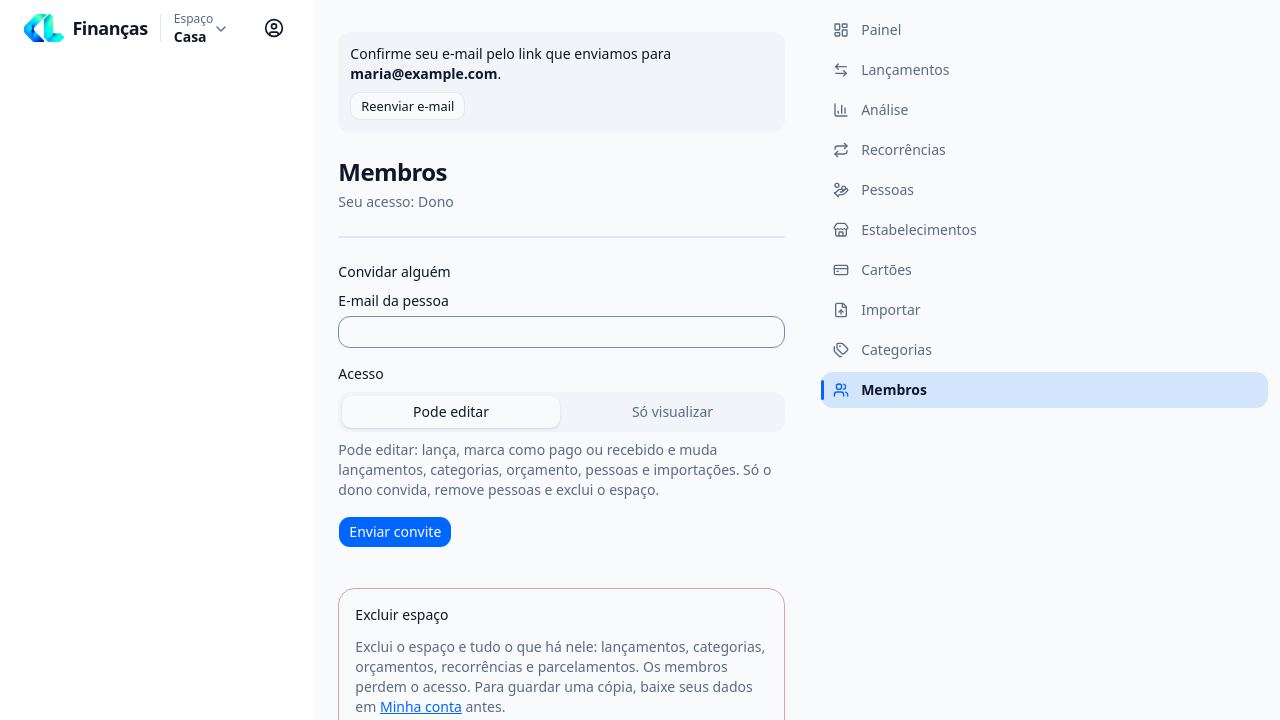
it: WorkspaceSwitcher › creates a shared workspace and opens it
This screenshot has width=1280, height=720.
Click the button named "Trocar de espaço: Espaço Casa": (202, 29) [165, 7, 238, 51]
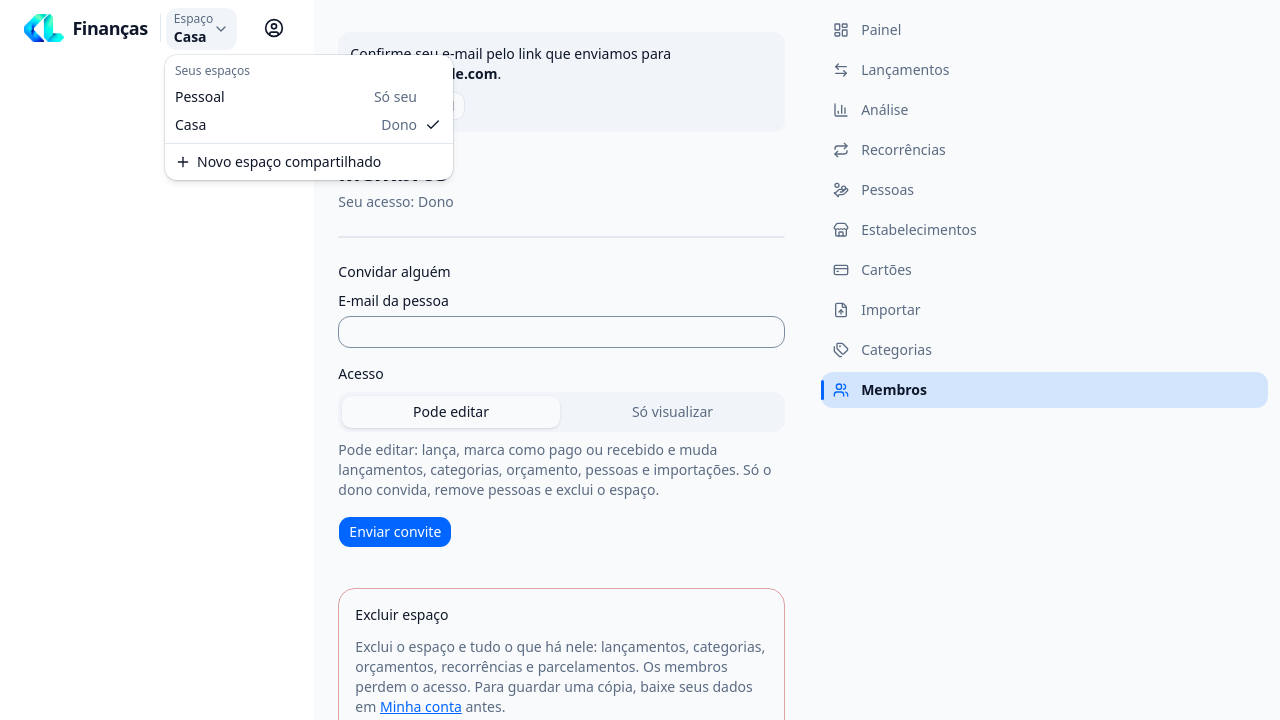
Click the menu item "Novo espaço compartilhado": (278, 162) [175, 152, 381, 171]
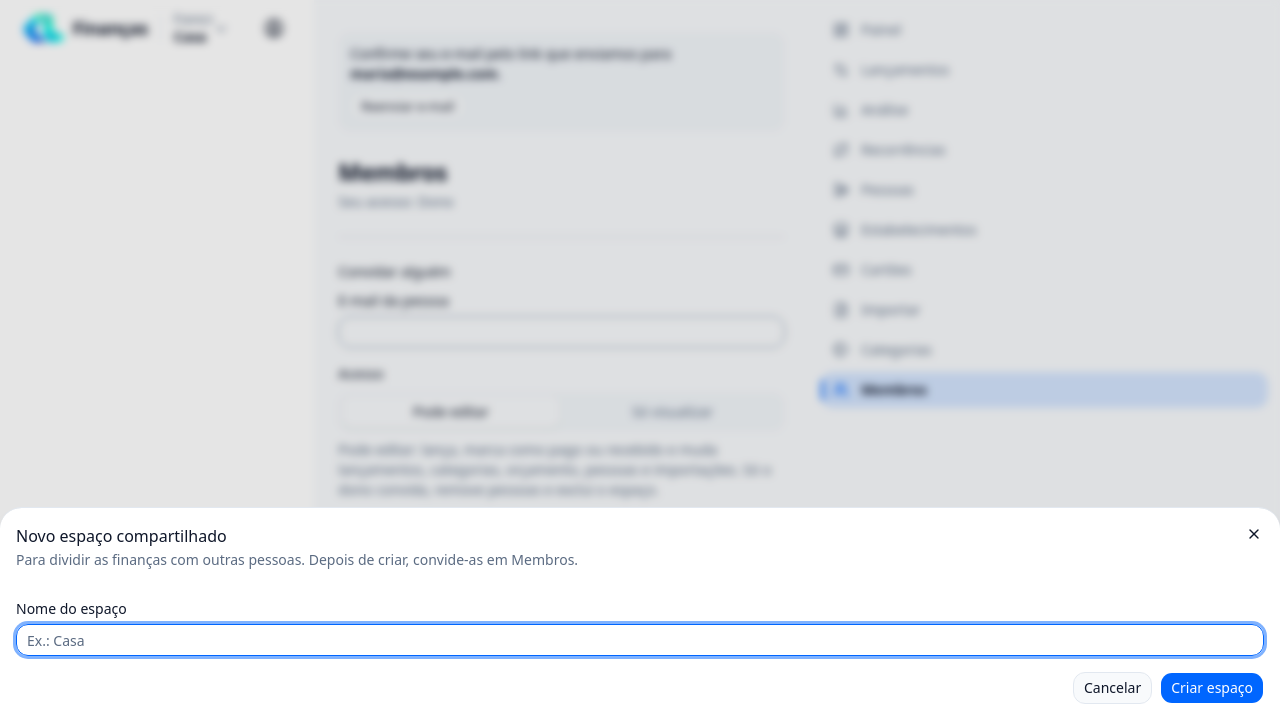
Click the button "Criar espaço": (1212, 688) [1160, 672, 1264, 704]
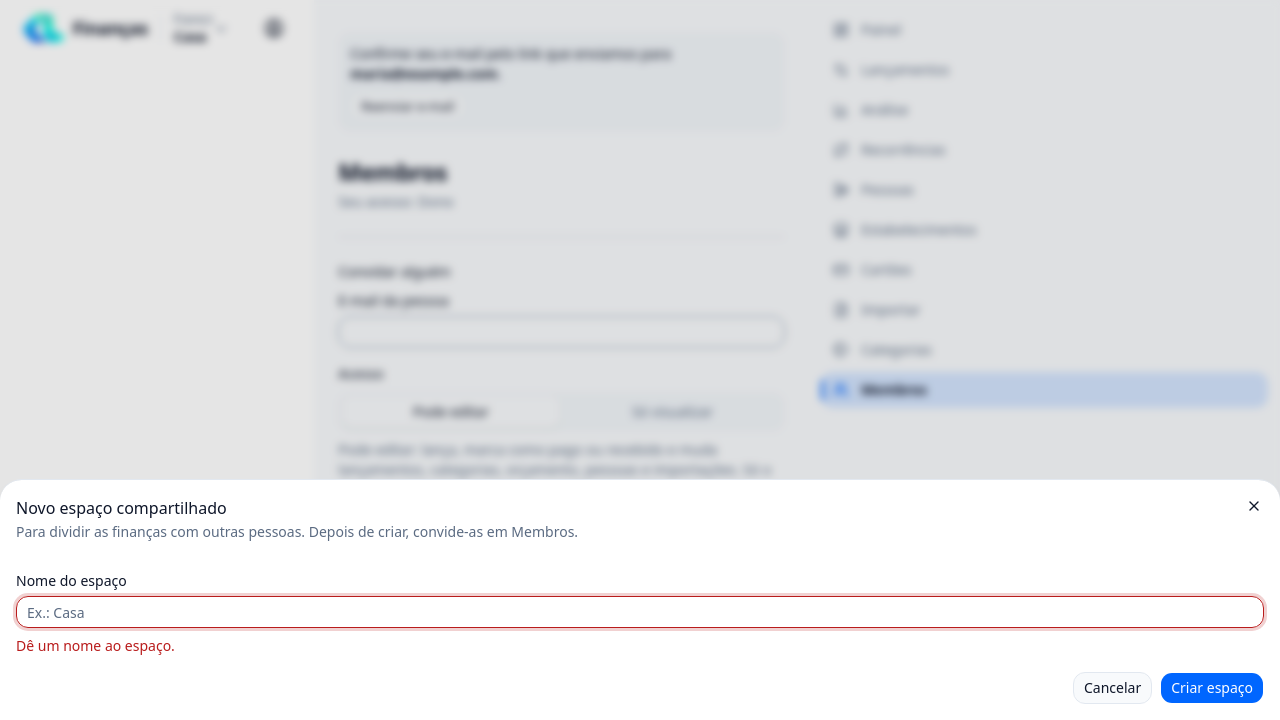
Expected: the text "Dê um nome ao espaço." is shown, [16, 636, 175, 655]
In the field labelled "Nome do espaço": (640, 612) [16, 596, 1264, 628], type "Viagem"
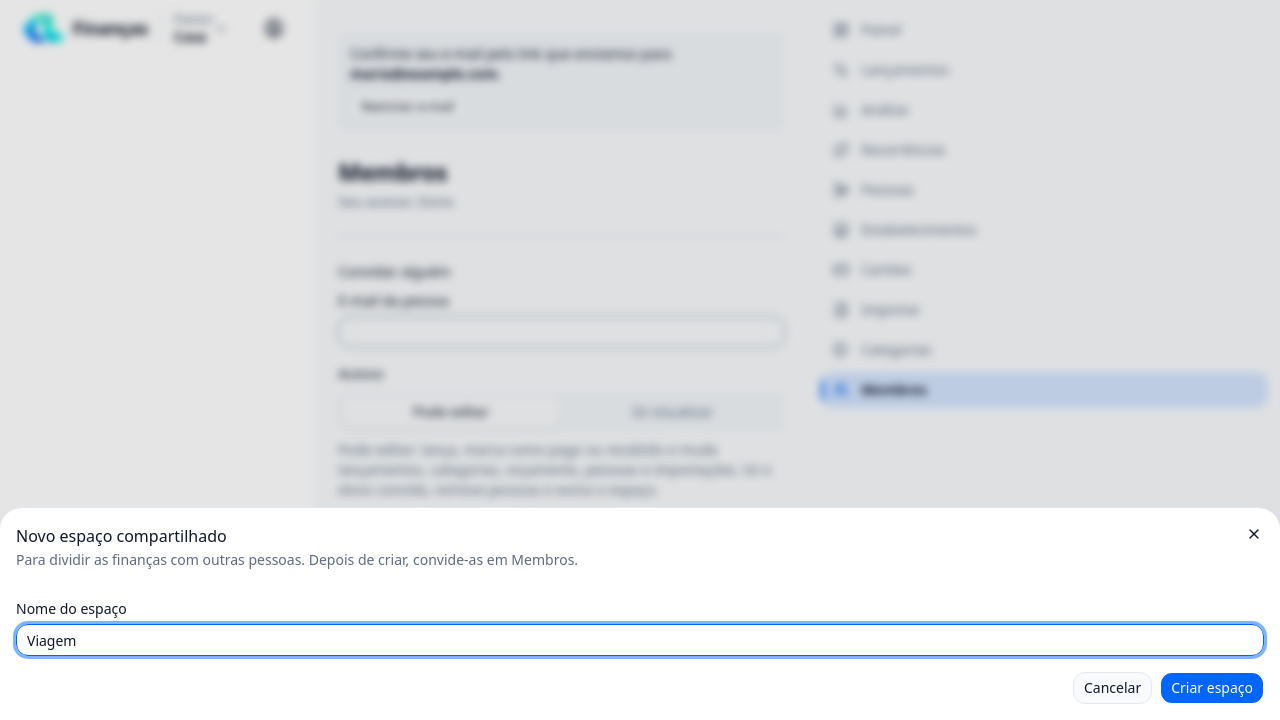
Click the button "Criar espaço": (1212, 688) [1160, 672, 1264, 704]
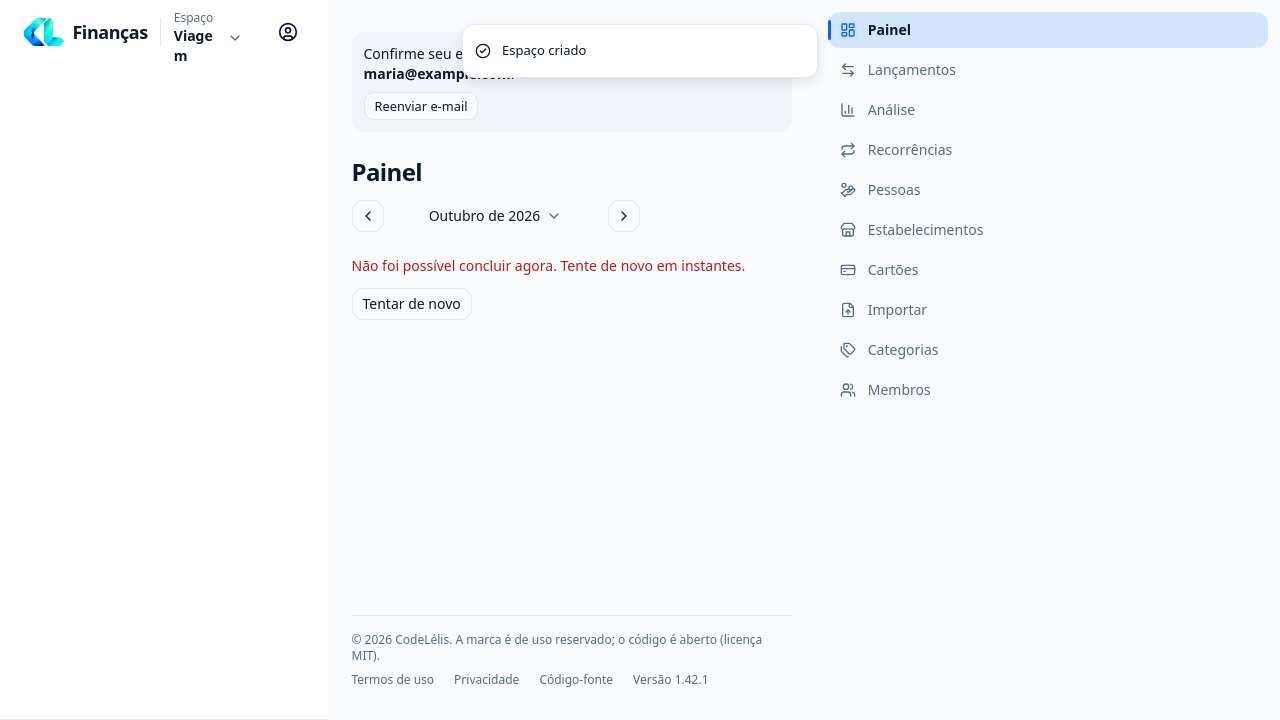
Expected: the text "Espaço criado" is shown, [502, 41, 586, 60]
Expected: the button named "Trocar de espaço: Espaço Viagem" is shown, [165, 16, 252, 60]
